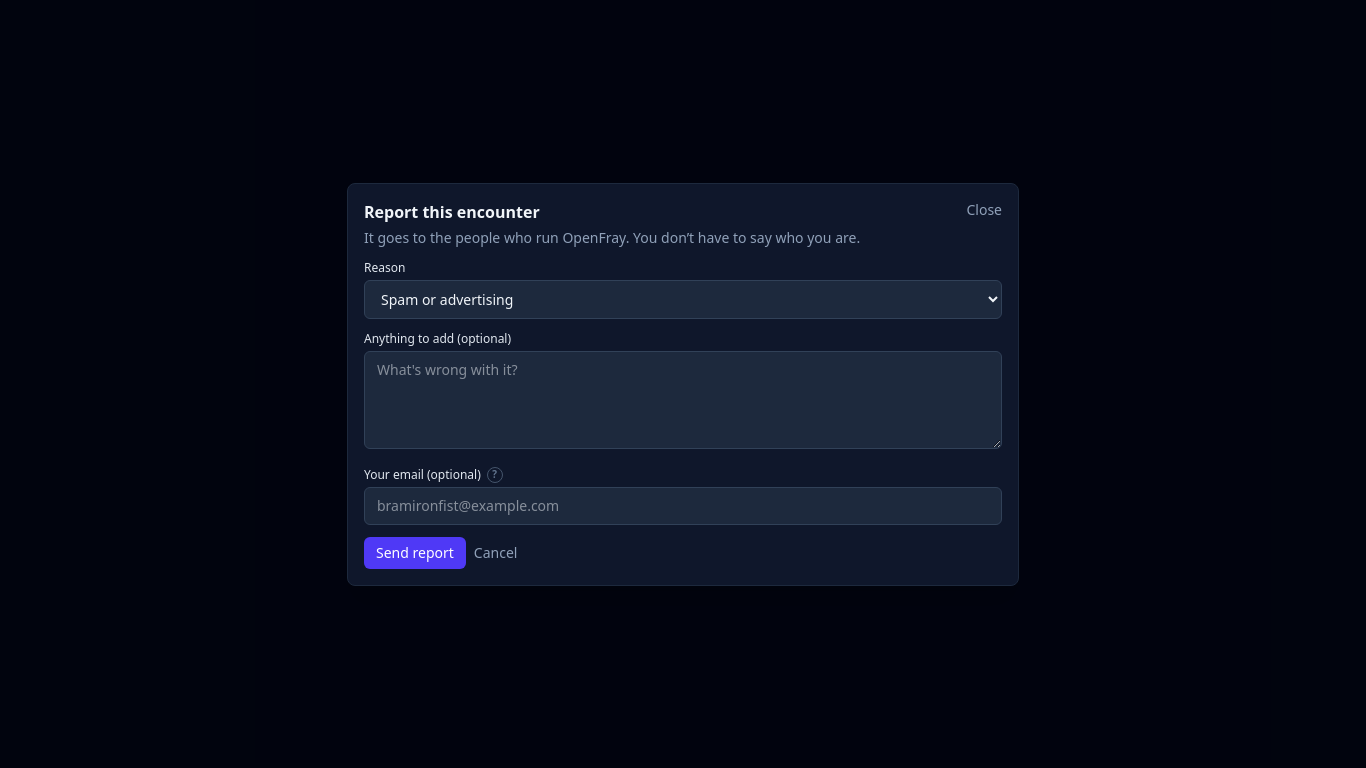
Scenario: ReportShareDialog › does not send until the abuse challenge is complete
The width and height of the screenshot is (1366, 768).
Click the button "Send report": (415, 552) left=364, top=536, right=466, bottom=568
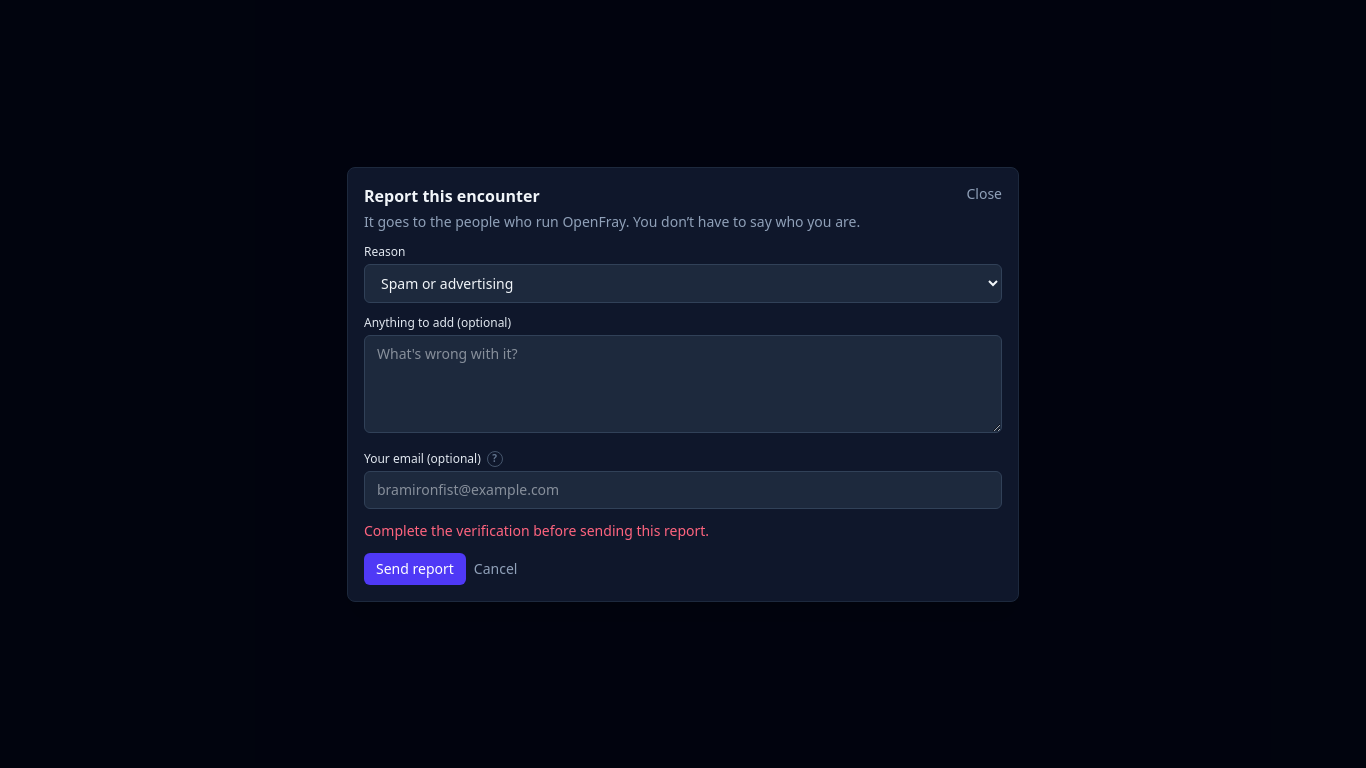
Expected: the text "Complete the verification before sending this report." is shown, left=364, top=520, right=709, bottom=540
